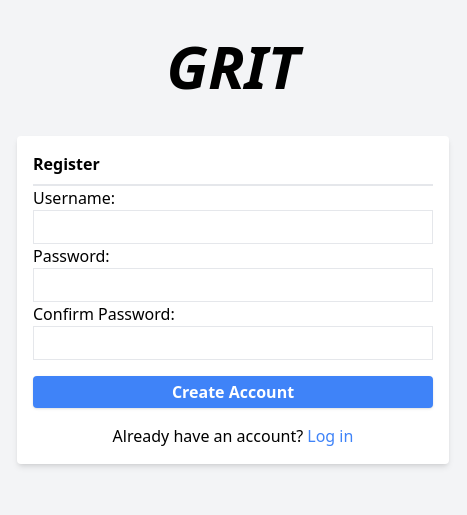
Test: Register Page › register with username, password and confirm password not populated
Click the button with test id "create-account".
click(233, 392)  # box [33, 376, 433, 408]
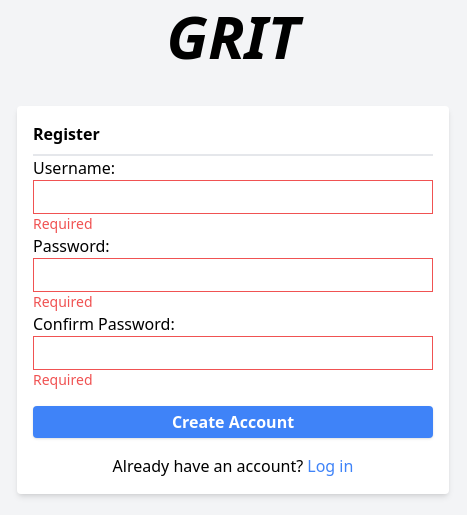
Expected: the text with test id "username-error" is shown, [33, 214, 93, 233]
Expected: the text with test id "password-error" is shown, [33, 292, 93, 311]
Expected: the text with test id "confirm-password-error" is shown, [33, 370, 93, 389]
